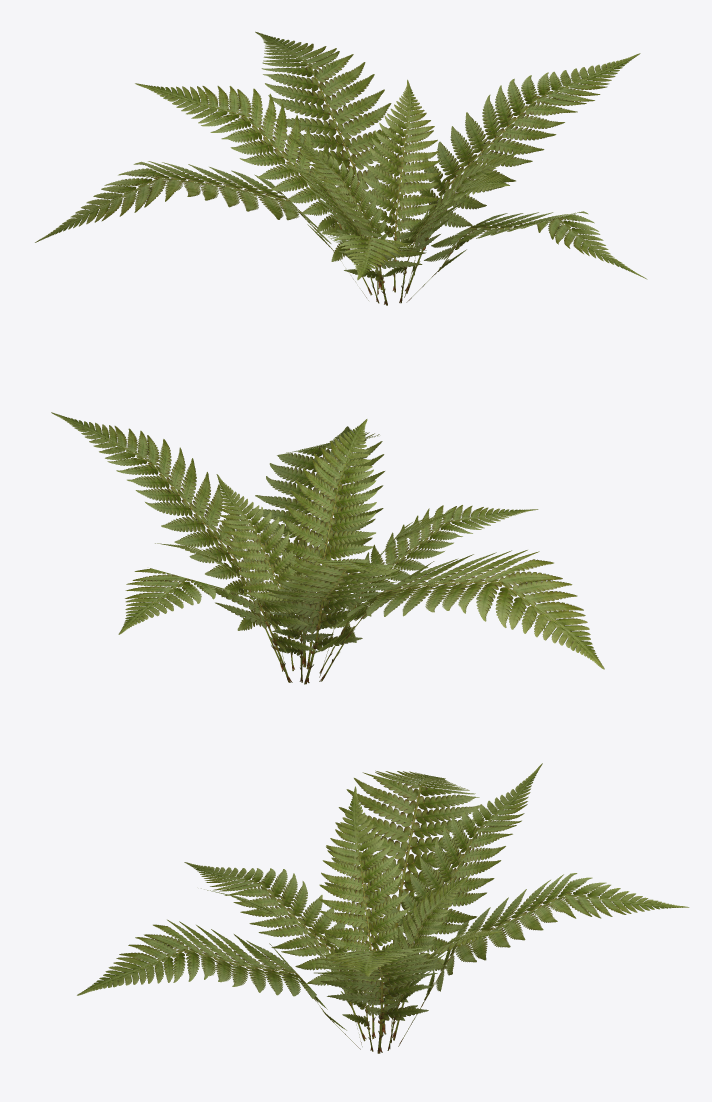
The model's file is fern_medium_b_lod1.gltf.
The picture shows the model from 3 angles, top to bottom: view 1: azimuth 30°, elevation 25°; view 2: azimuth 150°, elevation 25°; view 3: azimuth 270°, elevation 25°; orthographic projection. The views are drawn at different scales.
Parts seen in each view (by area): view 1: fern_medium_b_LOD1; view 2: fern_medium_b_LOD1; view 3: fern_medium_b_LOD1.
Part boxes in pixels (left/top/right/bottom): fern_medium_b_LOD1: left=35, top=31, right=647, bottom=305; fern_medium_b_LOD1: left=51, top=412, right=604, bottom=684; fern_medium_b_LOD1: left=77, top=763, right=689, bottom=1053.
Size of the model in its own units: 1.73 by 0.5946 by 1.67.
1 material, 1 textured.
